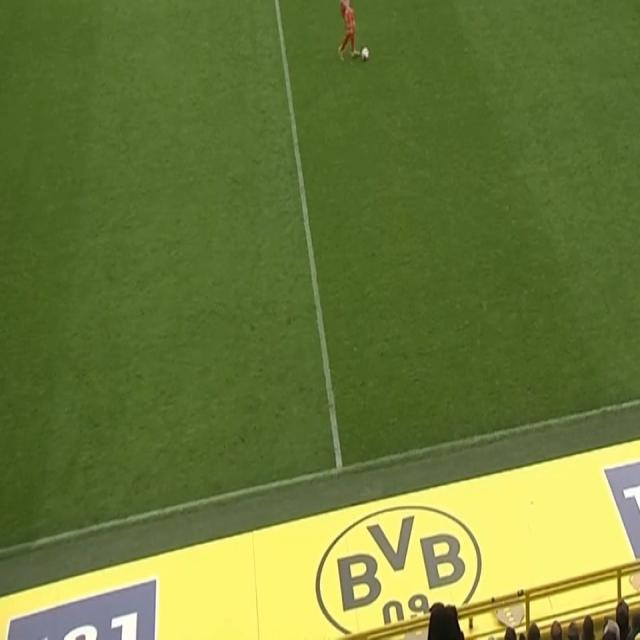ball: (360, 46, 370, 62)
